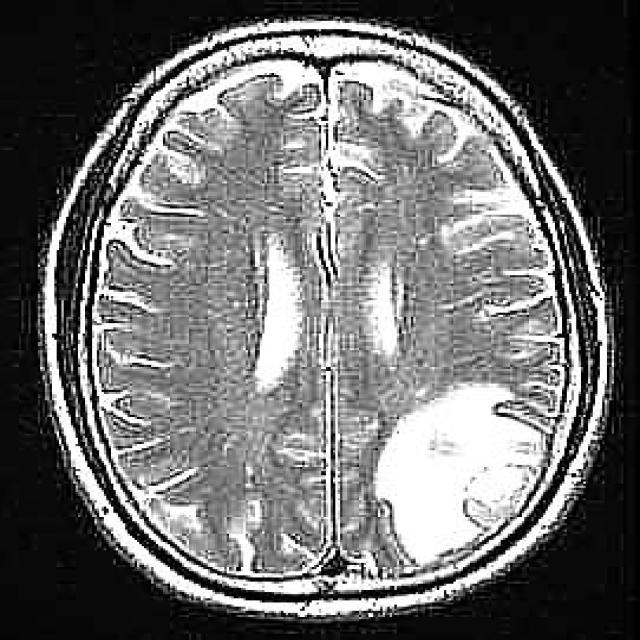Tumor-Cell: (338, 366, 522, 506)
